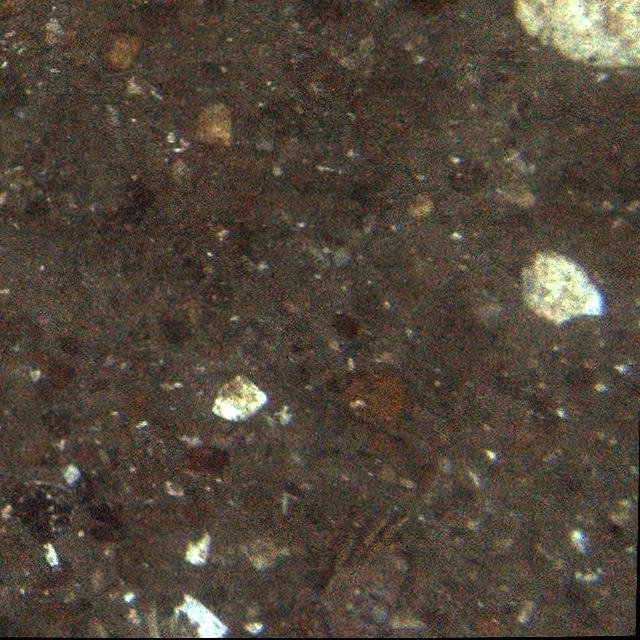crab: (306, 502, 414, 637)
